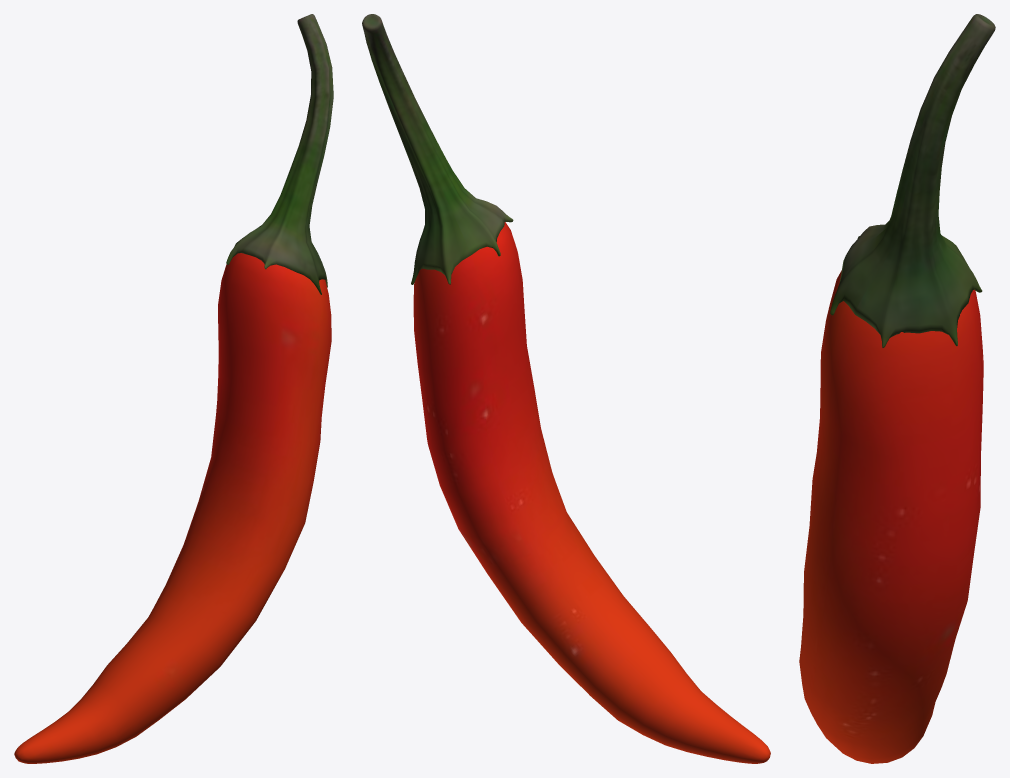
The model's file is RedPepper.fbx.
The picture shows the model from 3 angles, left to right: view 1: azimuth 30°, elevation 25°; view 2: azimuth 150°, elevation 25°; view 3: azimuth 270°, elevation 25°; orthographic projection. The views are drawn at different scales.
Parts seen in each view (by area): view 1: Cylinder.019; view 2: Cylinder.019; view 3: Cylinder.019.
Boxes of the visible parts, bbox=[...] form: Cylinder.019: bbox=[14, 14, 333, 763]; Cylinder.019: bbox=[362, 14, 770, 763]; Cylinder.019: bbox=[799, 14, 995, 763].
Bounding box in the file's own units: 81.56 × 148 × 28.91.
Materials: 2 (2 with a texture image).
